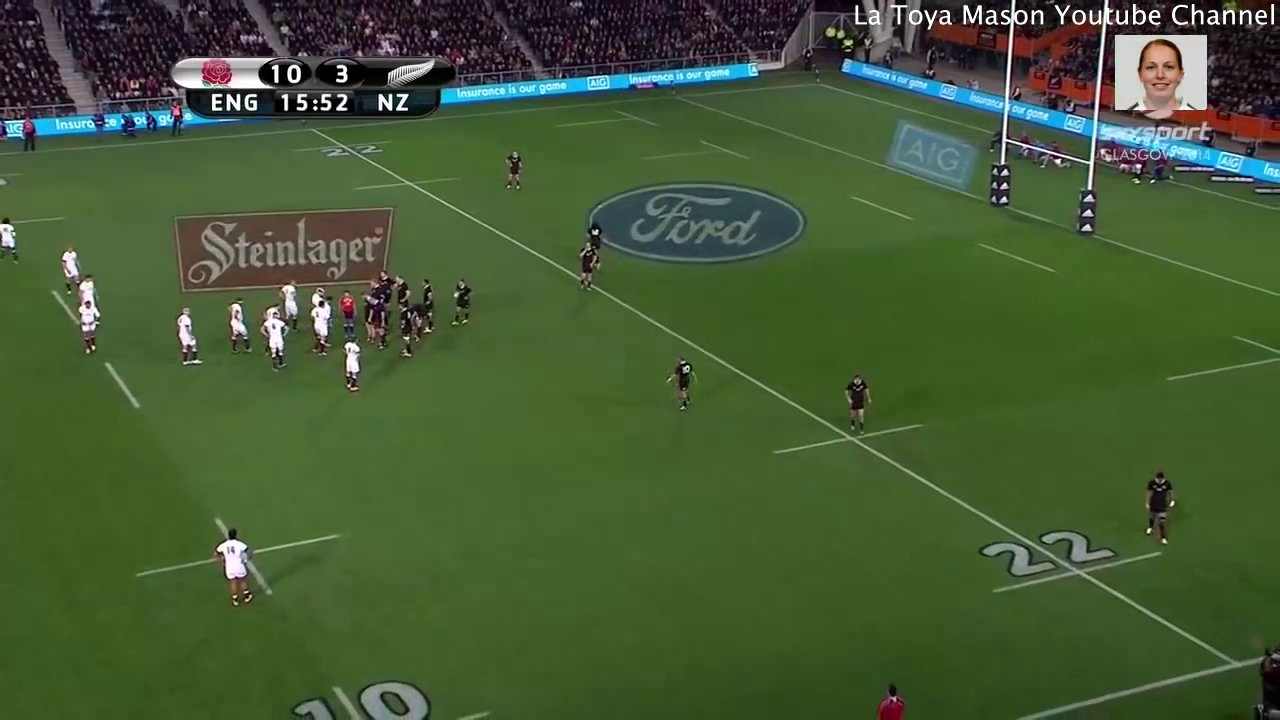10_metre: (123, 495, 352, 608), (267, 671, 505, 720)
ball: (450, 286, 460, 301)
player: (212, 517, 265, 620), (1135, 460, 1181, 556), (653, 348, 705, 414), (165, 298, 208, 375), (837, 363, 873, 448), (258, 311, 294, 378), (223, 292, 257, 360), (446, 273, 479, 336), (75, 269, 106, 330), (571, 238, 602, 298), (334, 286, 364, 346), (74, 294, 102, 358), (57, 238, 85, 301), (337, 333, 365, 394), (501, 140, 529, 200), (275, 276, 303, 336), (417, 274, 441, 340), (368, 297, 396, 352), (394, 302, 418, 365), (307, 299, 331, 358), (1, 210, 25, 266), (582, 215, 610, 262), (366, 277, 390, 311), (406, 300, 428, 334), (391, 272, 410, 309), (376, 268, 394, 305), (359, 288, 374, 328), (259, 300, 284, 323), (307, 282, 328, 307)
post: (982, 25, 1106, 243)
